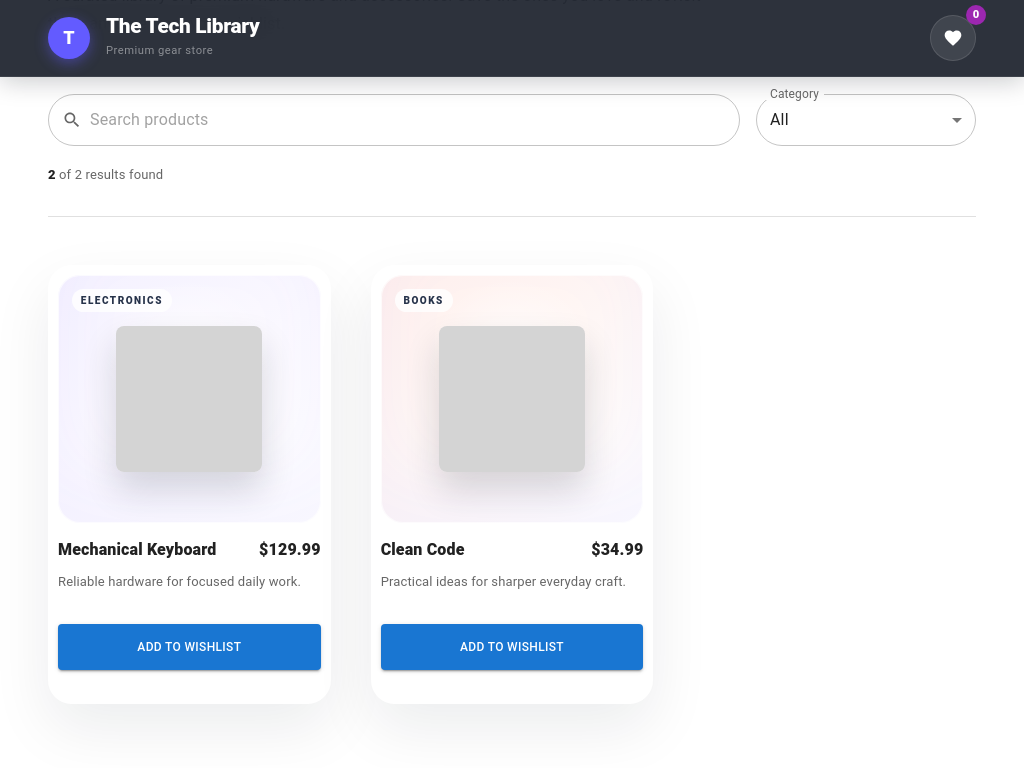
Scenario: App › shows snackbar feedback after adding an item
(page scrolled)
Click the button with aria-label "add to wishlist: mechanical keyboard". click: (189, 647)
box: [58,624,321,670]
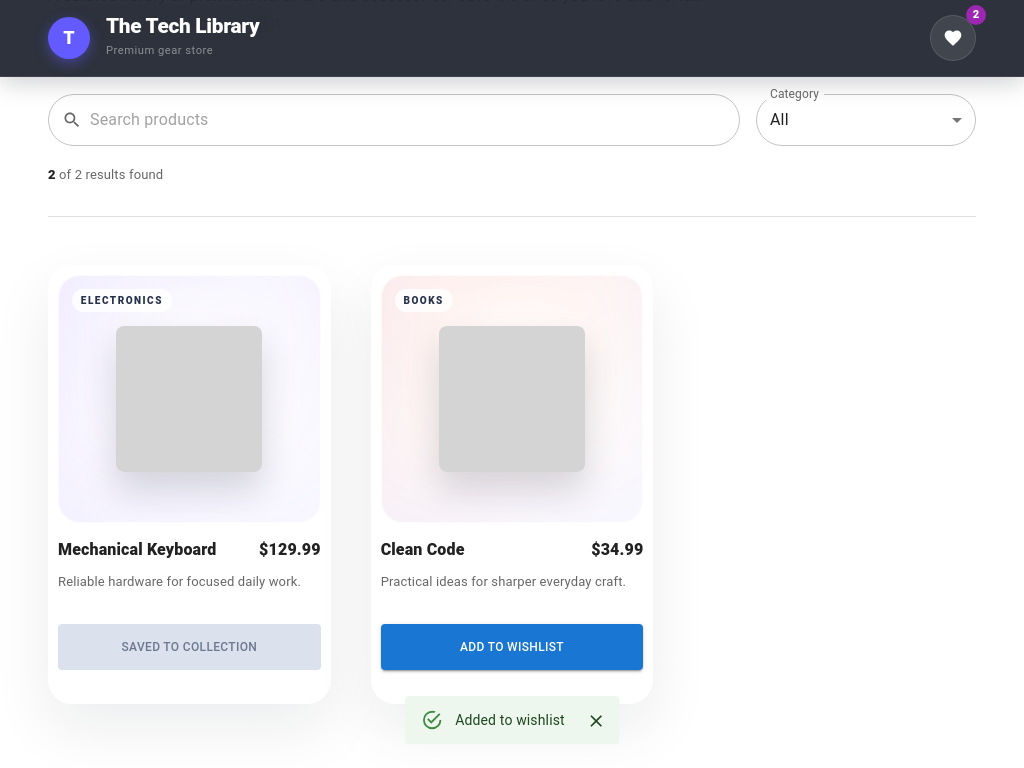
Now the text "Added to wishlist" is shown, box [455,712,565,728]
Now the button with aria-label "in wishlist" is disabled, box [58,624,321,670]
